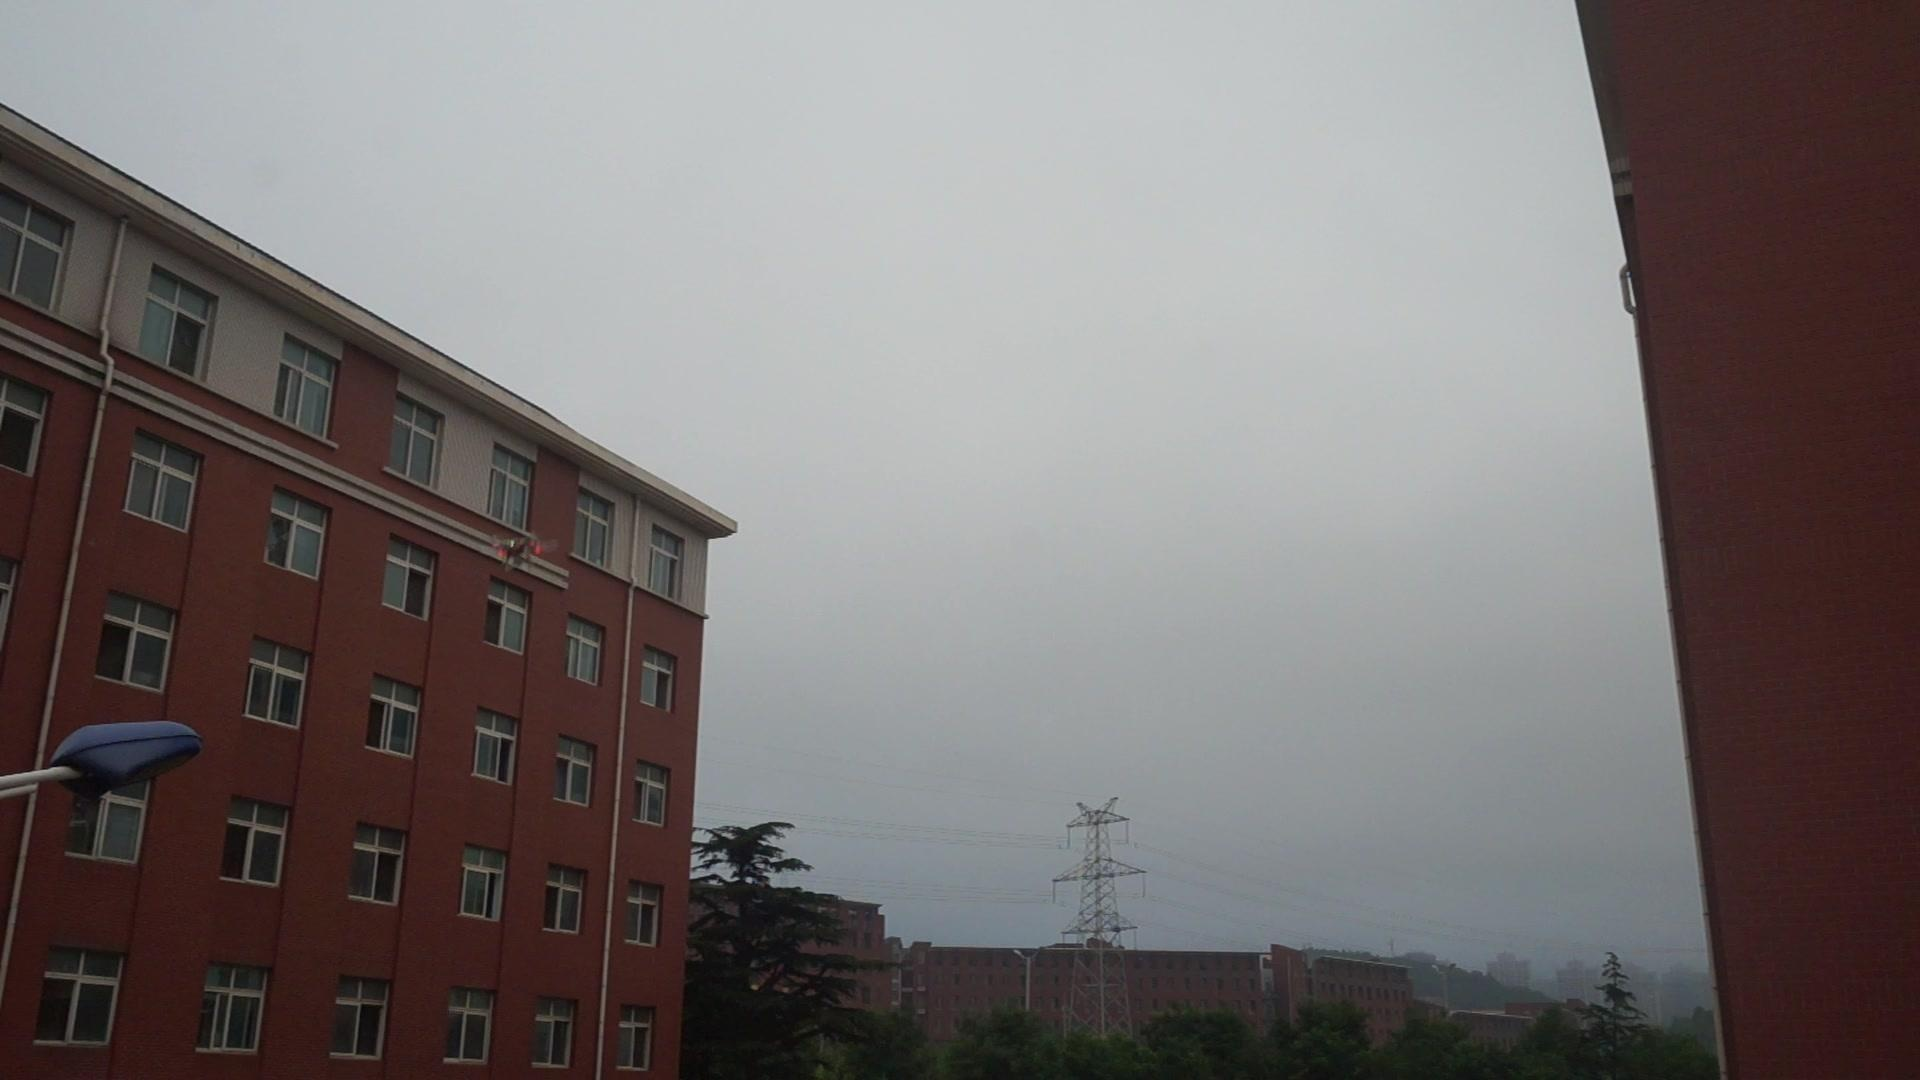UAV: (491, 533, 560, 574)
